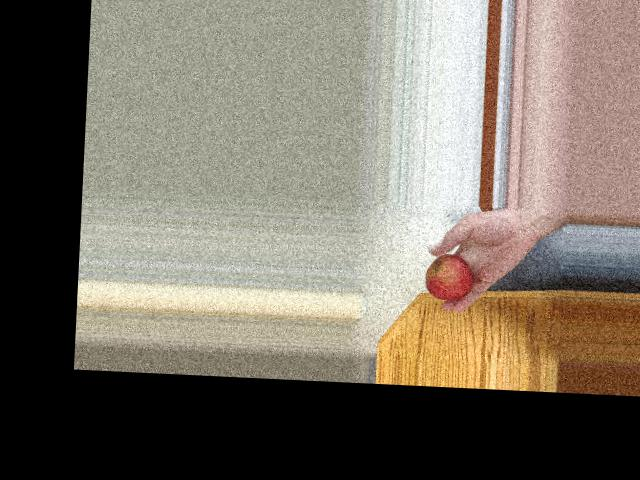apple: (425, 250, 476, 300)
